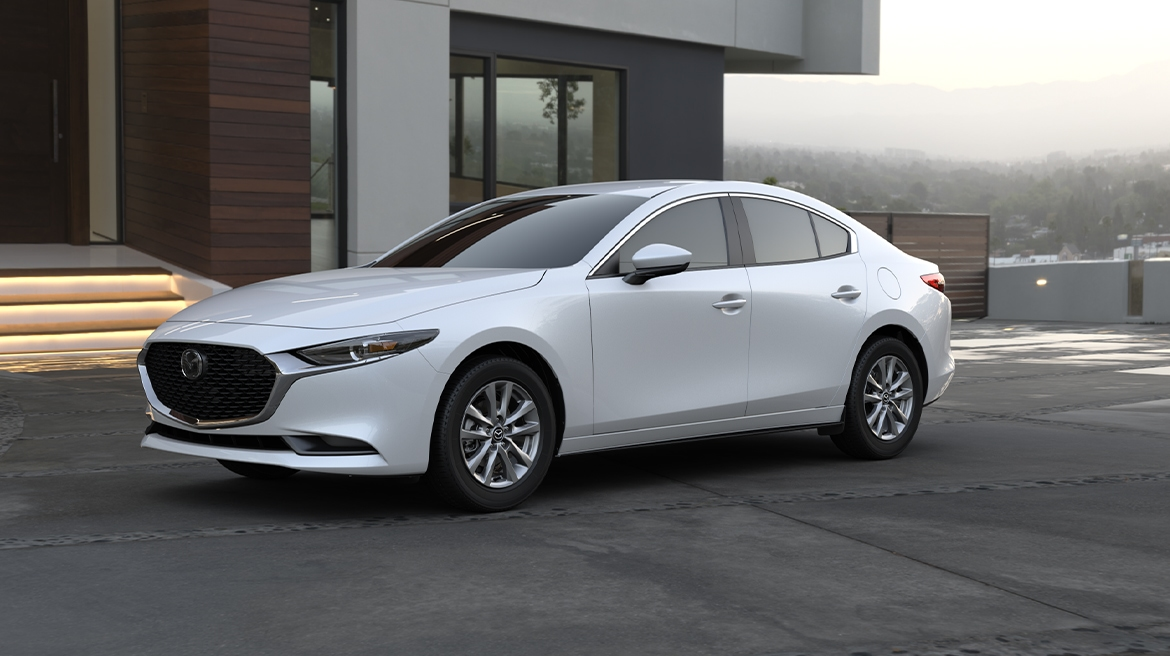car: (135, 178, 955, 513)
